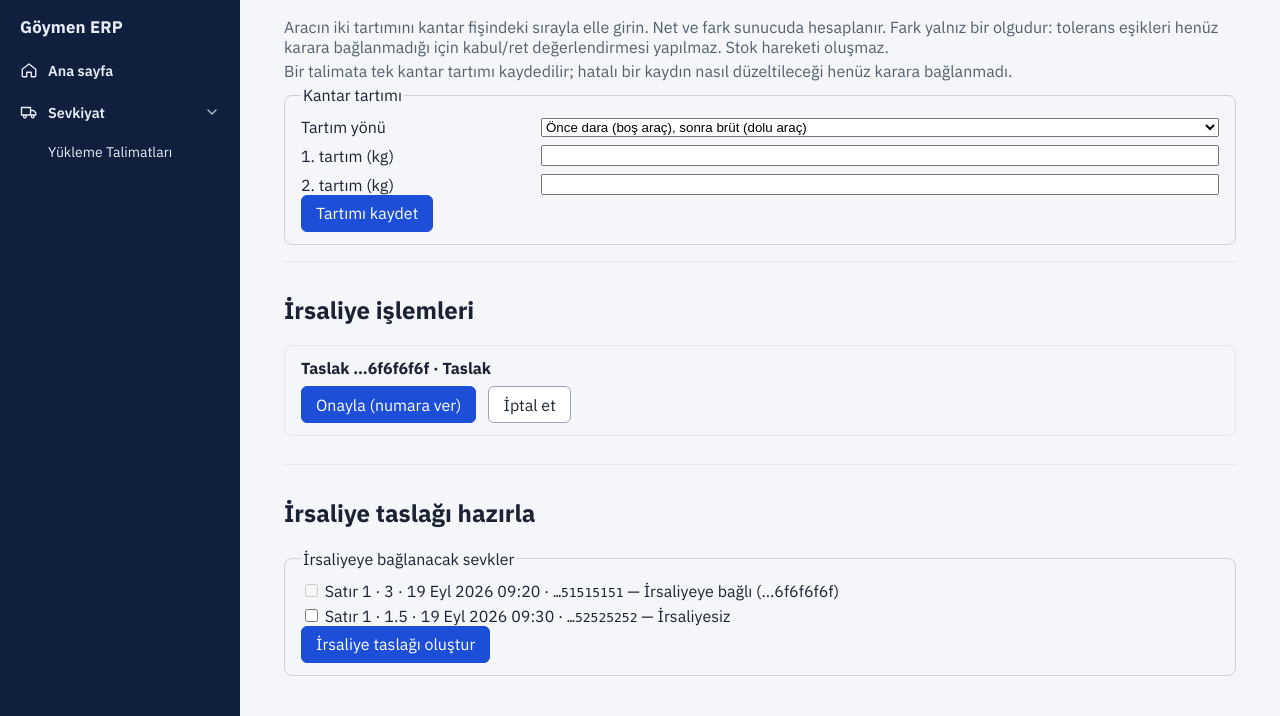
Scenario: AT-055 dispatch-note approval, cancellation and e-İrsaliye number on L-02-DETAIL › an approve answer without a number is not success (the outcome stays unknown)
(page scrolled)
What coordinates should you click on to do the following:
click the button "Onayla (numara ver)"
I would click on:
 (389, 405)
Its box is [301,386,476,423].
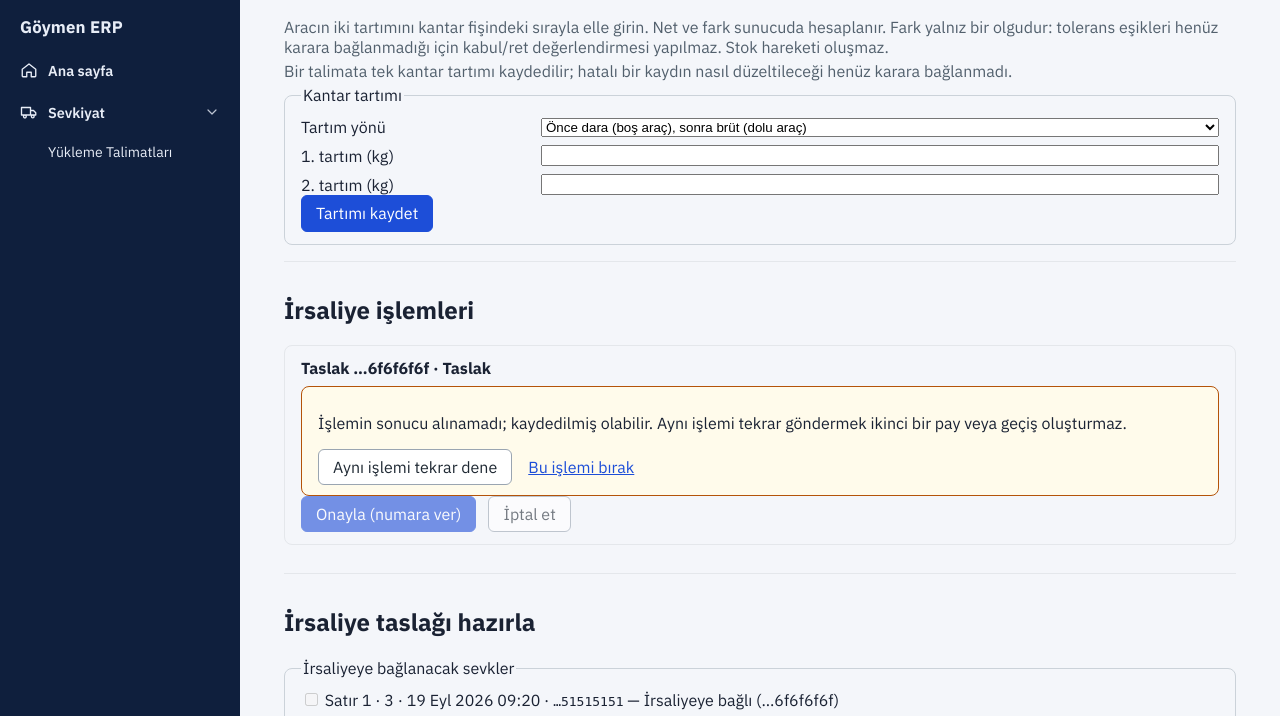
Check: the text "İşlemin sonucu alınamadı; kaydedilmiş olabilir. Aynı işlemi tekrar göndermek ikinci bir pay veya geçiş oluşturmaz." is shown, box [318,413,1127,433]
